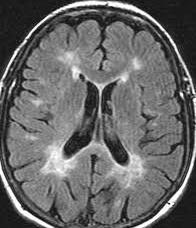Normal_Brain: (1, 1, 191, 228)
